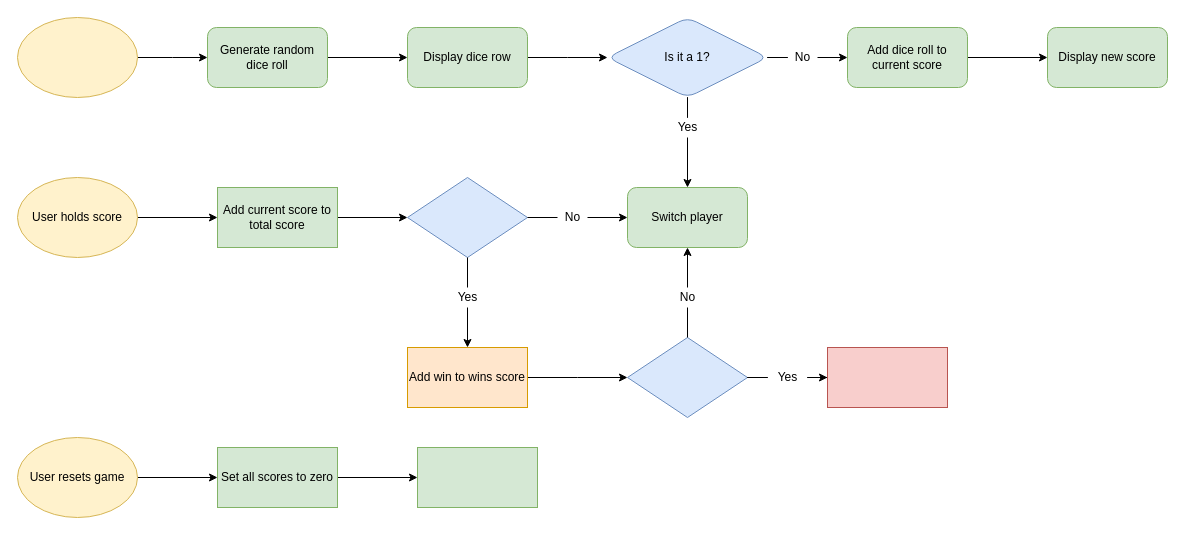
This 1185x535 diagram has some shape labels left out. Here are the shapes that lost their labels. From the top down, the centre of each, then its label:
At [77,57]: "User rolls dice".
At [467,217]: "Is it >= 100?".
At [687,377]: "Is it = 3?".
At [887,377]: "Player wins".
At [477,477]: "Set player 1 starting player".
